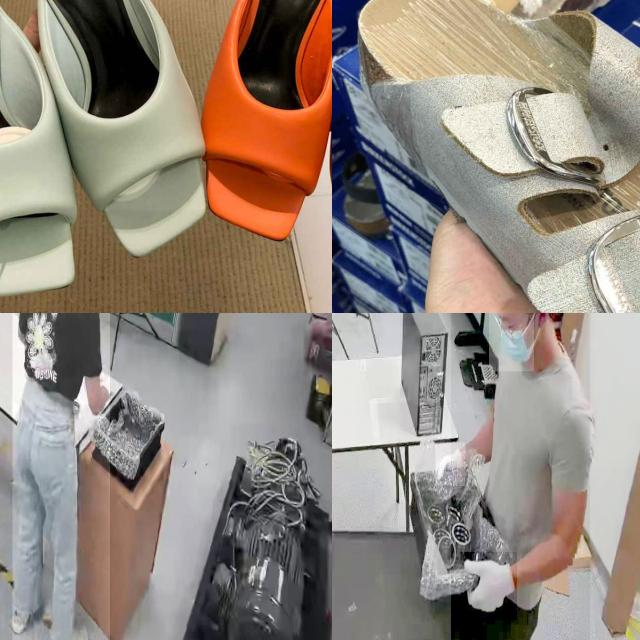Sandals: (332, 0, 640, 313), (0, 0, 222, 313), (175, 0, 332, 283)
face_mask: (489, 313, 534, 371)
hand_glove: (460, 552, 518, 621), (436, 442, 466, 486)
person: (451, 313, 590, 640), (12, 313, 110, 640)
shoes: (6, 589, 41, 640), (49, 622, 90, 640)
